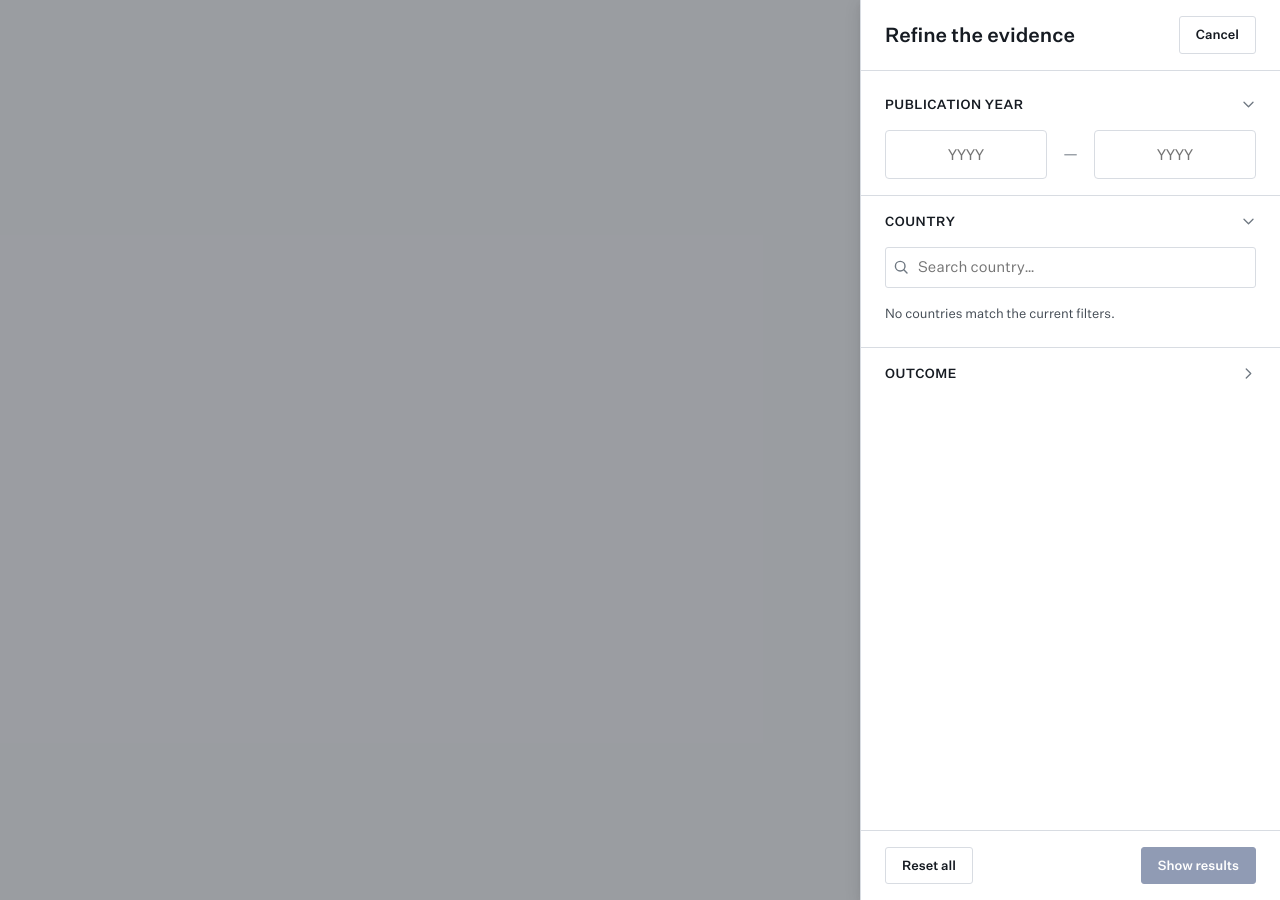
Test case: collapsible concept filters › flag on collapses deep children behind a toggle in the scheme card
Click the button "Outcome".
click(921, 373)  # box top-left (861, 348), bottom-right (1279, 400)
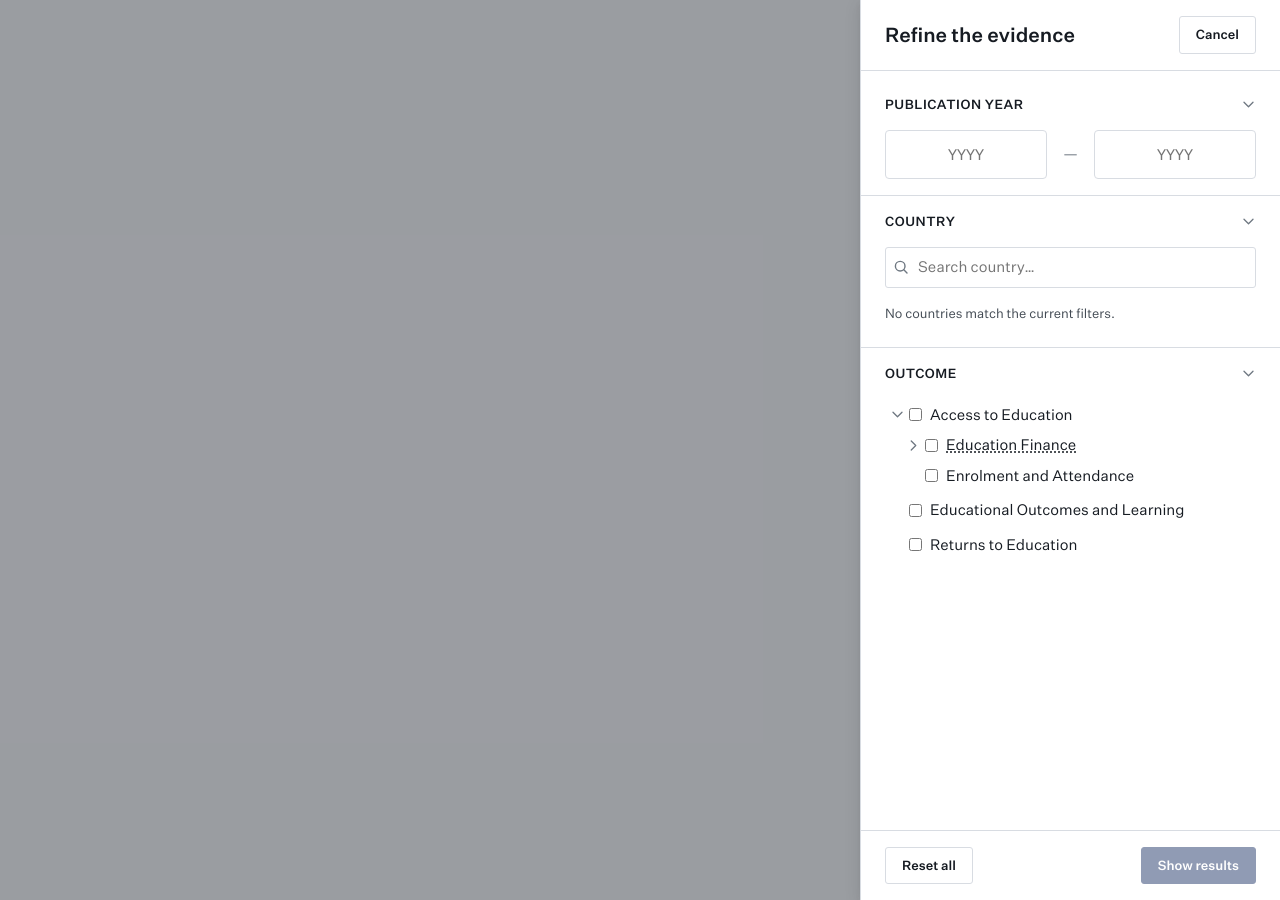
Expected: the field labelled "School Fees" is not shown
Click the button named "Child concepts of Education Finance".
click(913, 445)  # box top-left (901, 433), bottom-right (925, 457)
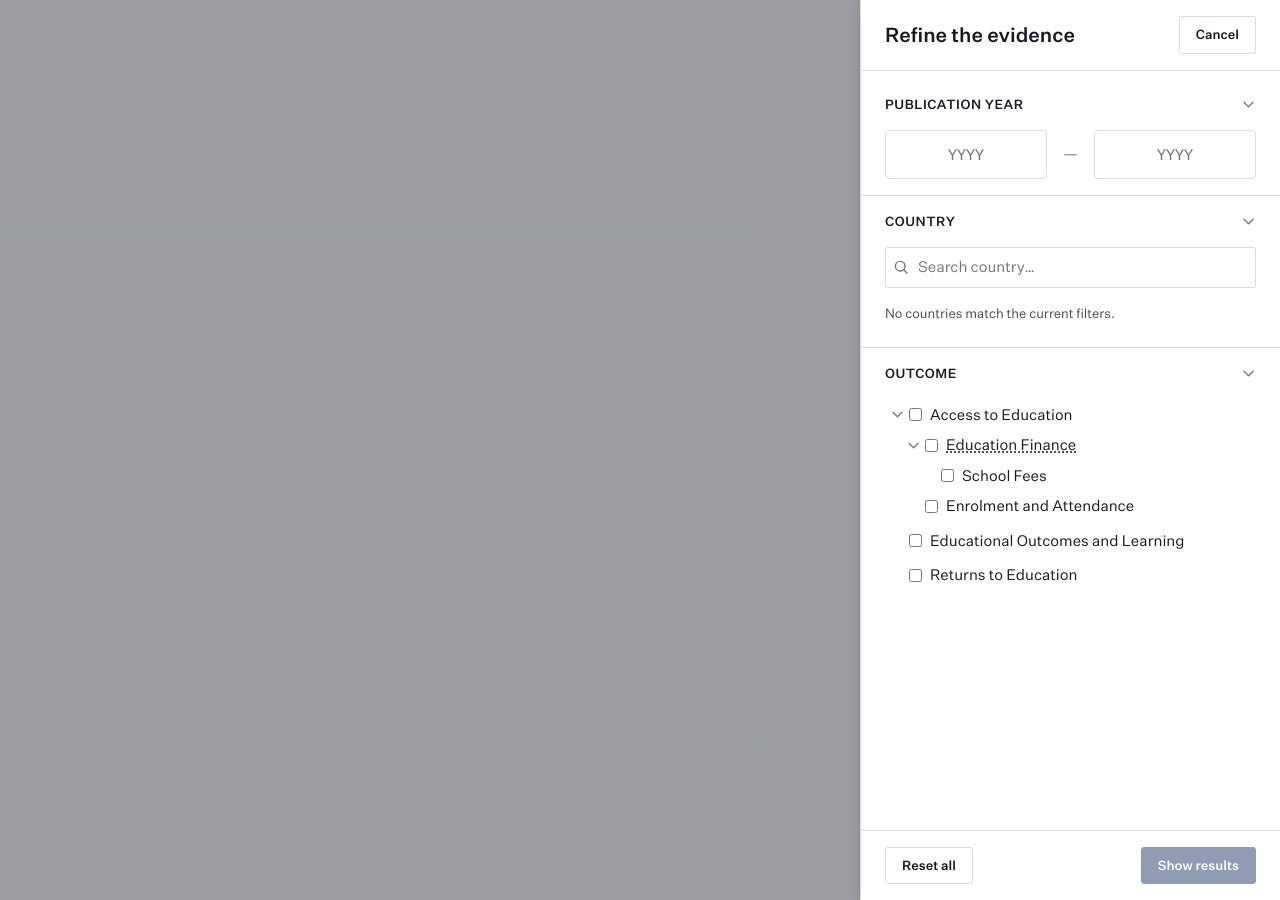
Expected: the checkbox labelled "School Fees" is shown, top-left (941, 469), bottom-right (954, 482)
